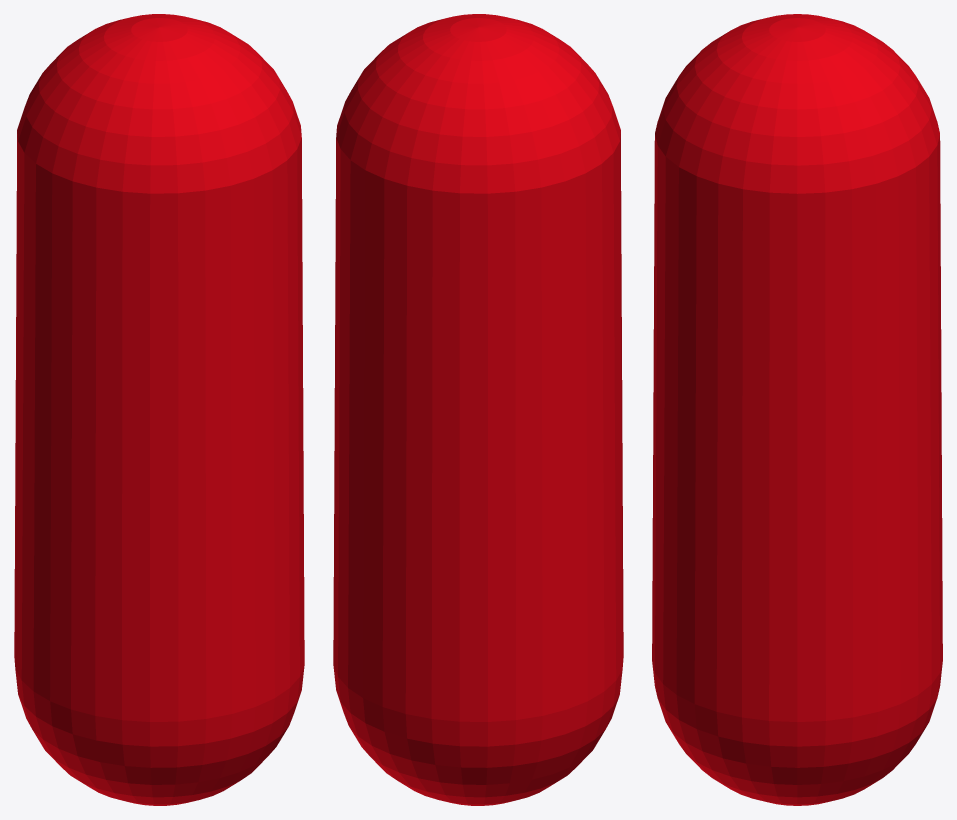
Rendered from bean.glb.
3 views of the same model, side by side, from view 1: azimuth 30°, elevation 25°; view 2: azimuth 150°, elevation 25°; view 3: azimuth 270°, elevation 25° (orthographic).
Parts seen in each view (by area): view 1: Sphere; view 2: Sphere; view 3: Sphere.
Boxes of the visible parts, x1,y1,x2,y2 form: Sphere: (14, 14, 304, 805); Sphere: (333, 14, 623, 805); Sphere: (652, 14, 942, 805).
Size of the model in its own units: 2 by 5.8 by 2.
